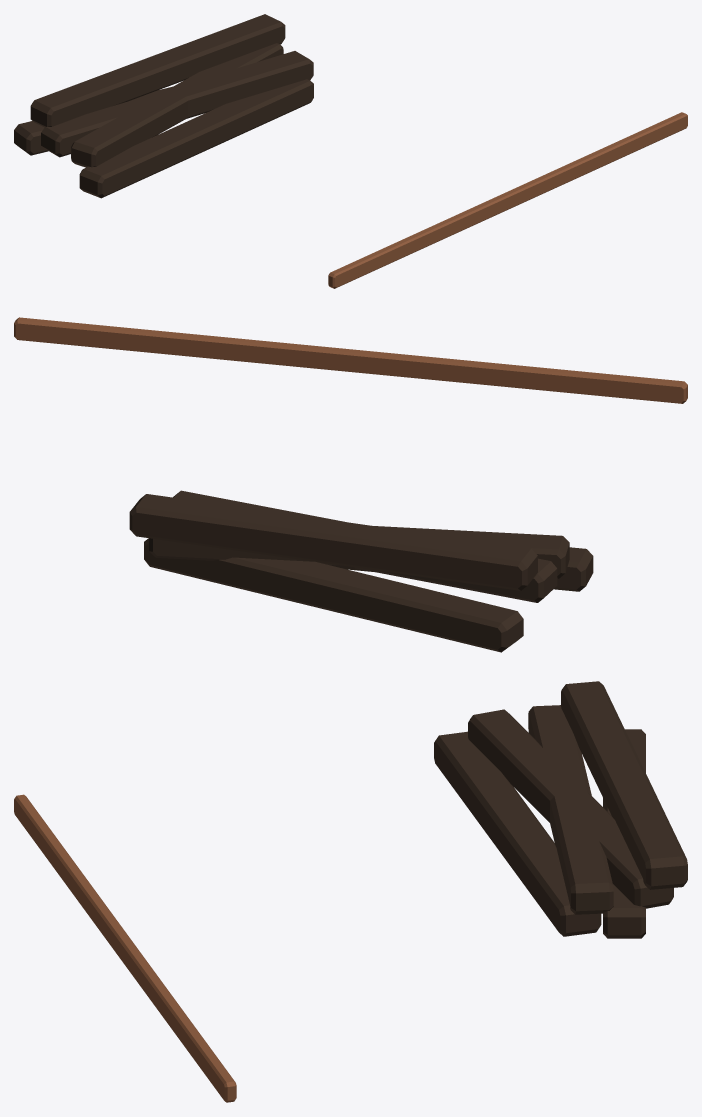
File: switchyard_terrain_scatter.glb
3 renders of one model, top to bottom at view 1: azimuth 30°, elevation 25°; view 2: azimuth 150°, elevation 25°; view 3: azimuth 270°, elevation 25°, orthographic. The views are drawn at different scales.
Parts seen in each view (by area): view 1: scatter_sleeper2, scatter_sleeper3, scatter_rail, scatter_sleeper1, scatter_sleeper4, scatter_sleeper0; view 2: scatter_sleeper2, scatter_rail, scatter_sleeper0, scatter_sleeper4, scatter_sleeper1, scatter_sleeper3; view 3: scatter_sleeper2, scatter_sleeper3, scatter_sleeper1, scatter_sleeper4, scatter_rail, scatter_sleeper0.
Part boxes in pixels (x1=…): scatter_sleeper2: x1=30, y1=14, x2=285, y2=127; scatter_sleeper3: x1=79, y1=79, x2=313, y2=198; scatter_rail: x1=328, y1=112, x2=687, y2=288; scatter_sleeper1: x1=41, y1=51, x2=313, y2=157; scatter_sleeper4: x1=71, y1=43, x2=283, y2=167; scatter_sleeper0: x1=14, y1=86, x2=172, y2=155; scatter_sleeper2: x1=129, y1=494, x2=537, y2=590; scatter_rail: x1=14, y1=317, x2=687, y2=403; scatter_sleeper0: x1=144, y1=538, x2=523, y2=652; scatter_sleeper4: x1=149, y1=526, x2=569, y2=578; scatter_sleeper1: x1=173, y1=490, x2=557, y2=602; scatter_sleeper3: x1=340, y1=547, x2=593, y2=591; scatter_sleeper2: x1=561, y1=681, x2=687, y2=889; scatter_sleeper3: x1=434, y1=731, x2=601, y2=936; scatter_sleeper1: x1=528, y1=705, x2=613, y2=914; scatter_sleeper4: x1=468, y1=709, x2=673, y2=908; scatter_rail: x1=14, y1=794, x2=236, y2=1102; scatter_sleeper0: x1=603, y1=729, x2=645, y2=938.
Size of what is drawn, in the model's own units: 4.66 by 0.4904 by 3.78.
